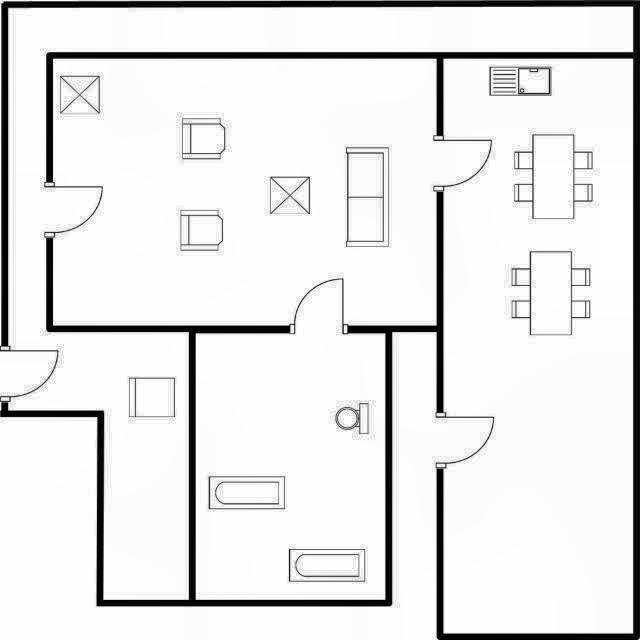room: (8, 6, 634, 600), (443, 58, 633, 634), (53, 59, 436, 325), (196, 333, 386, 600)
